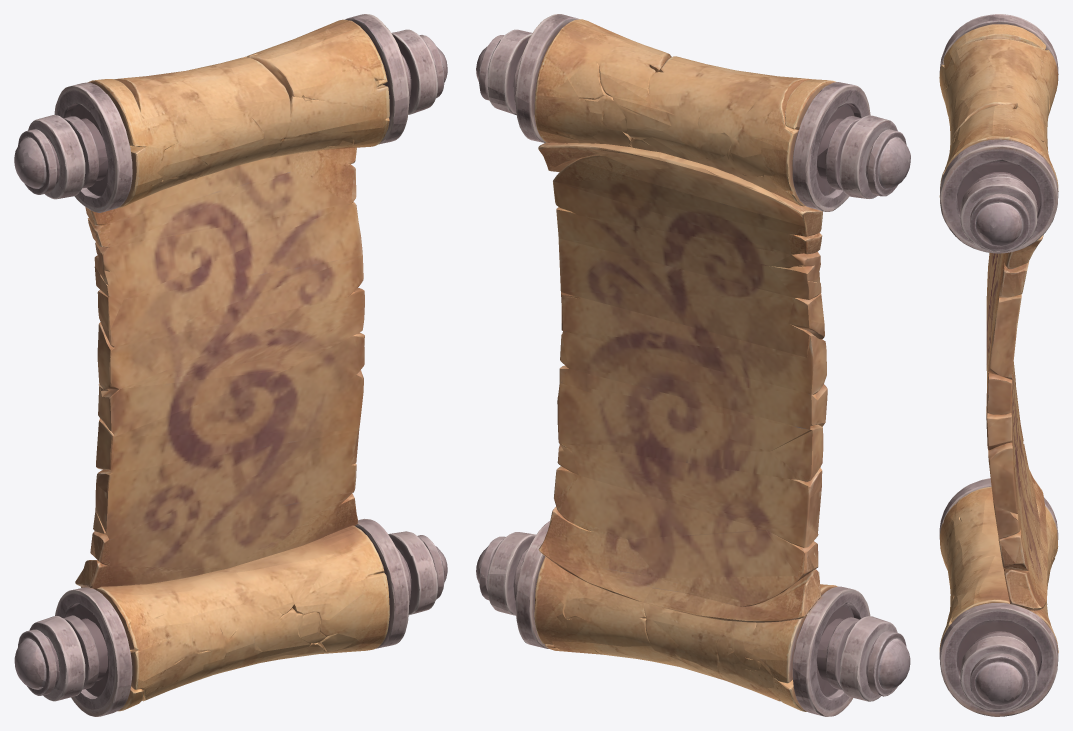
File: scroll.glb
3 renders of one model, left to right at view 1: azimuth 30°, elevation 25°; view 2: azimuth 150°, elevation 25°; view 3: azimuth 270°, elevation 25°, orthographic. The views are drawn at different scales.
Visible parts, largest first — view 1: Mesh_0; view 2: Mesh_0; view 3: Mesh_0.
Boxes of the visible parts, bbox=[...] form: Mesh_0: bbox=[14, 14, 447, 716]; Mesh_0: bbox=[476, 14, 910, 716]; Mesh_0: bbox=[939, 14, 1058, 716].
Bounding box in the file's own units: 1.36 × 1.9 × 0.3592.
Materials: 1 (1 with a texture image).
